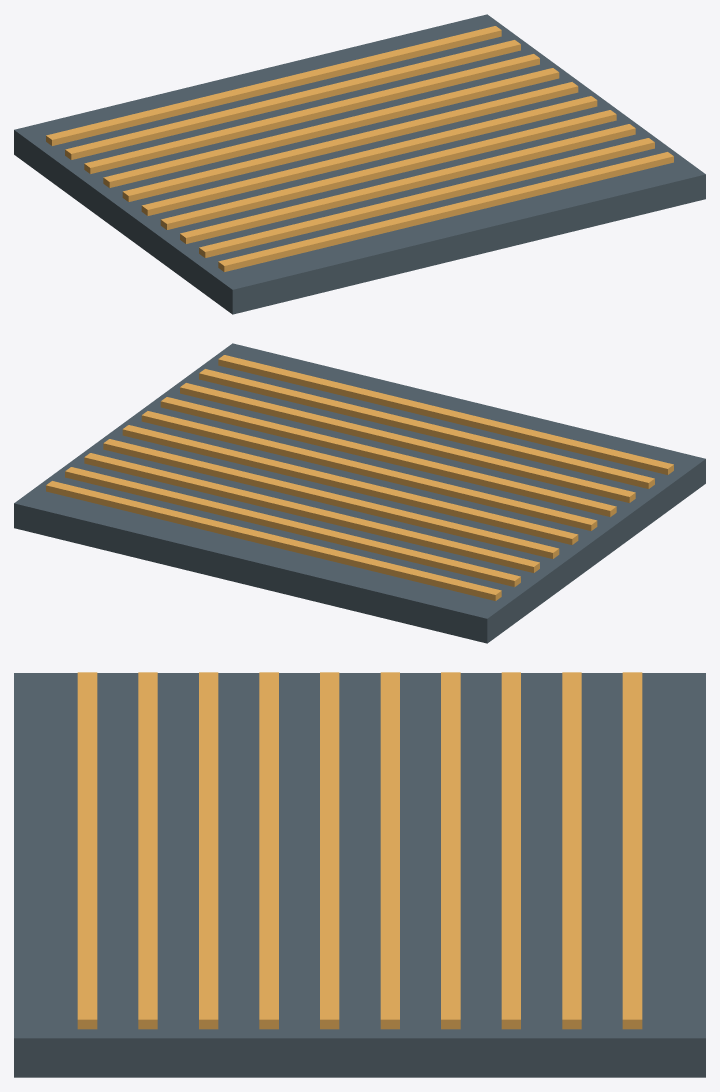
File: american-football-stadium-kit-equipment-crossing-ramp-fa4f144a__22328.glb
The picture shows the model from 3 angles, top to bottom: view 1: azimuth 30°, elevation 25°; view 2: azimuth 150°, elevation 25°; view 3: azimuth 270°, elevation 25°; orthographic projection. The views are drawn at different scales.
Parts seen in each view (by area): view 1: equipment-crossing-ramp; view 2: equipment-crossing-ramp; view 3: equipment-crossing-ramp.
Boxes of the visible parts, box(x1,y1,x2,y2) form: equipment-crossing-ramp: box(14, 14, 705, 314); equipment-crossing-ramp: box(14, 343, 705, 643); equipment-crossing-ramp: box(14, 672, 705, 1077).
Bounding box in the file's own units: 2 × 0.1251 × 1.6.
